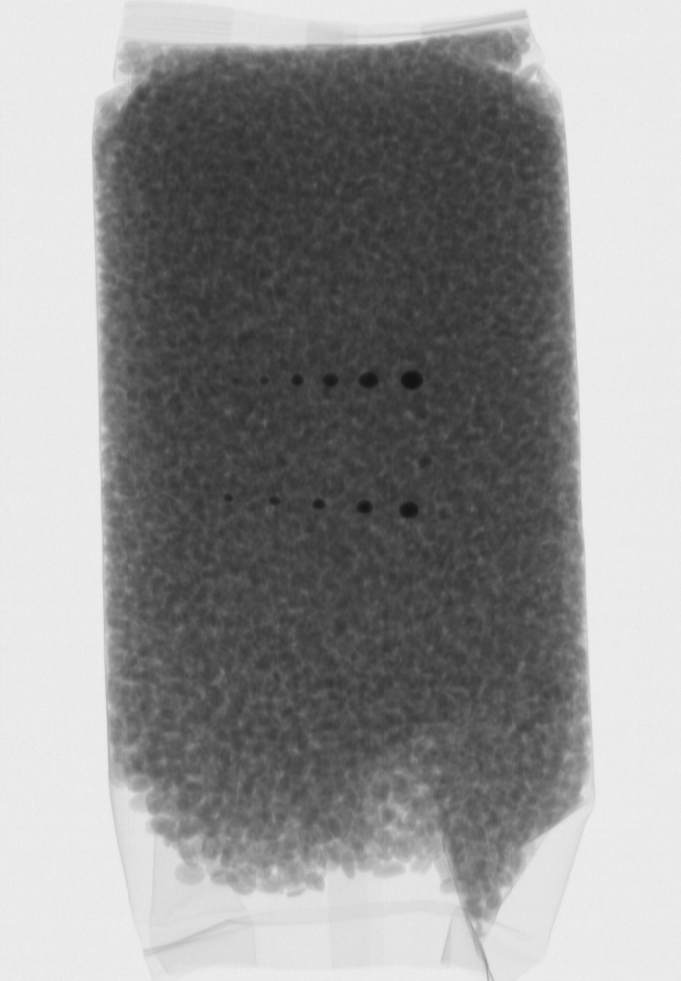glass: (400, 367, 427, 392), (359, 369, 383, 391), (398, 498, 421, 520), (354, 496, 377, 515), (251, 370, 271, 385), (311, 491, 326, 511), (323, 370, 340, 387), (292, 369, 305, 388), (224, 494, 241, 506), (267, 492, 281, 506)
glass_area: (236, 353, 451, 409), (215, 485, 435, 534)
